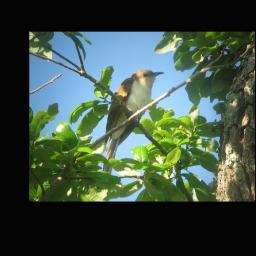Cuckoo: (100, 68, 167, 179)
